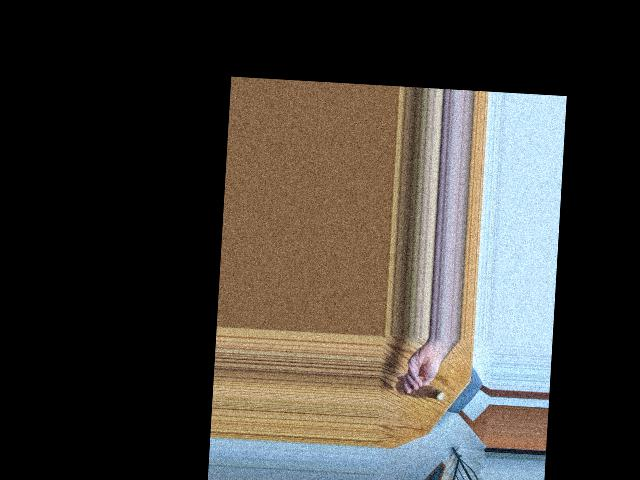sweet_potato: (395, 381, 449, 400)
